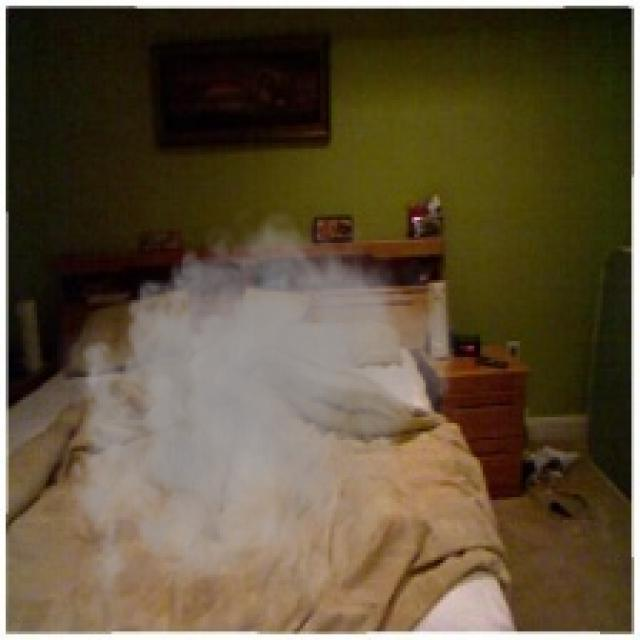Smoke: (51, 200, 468, 623)
